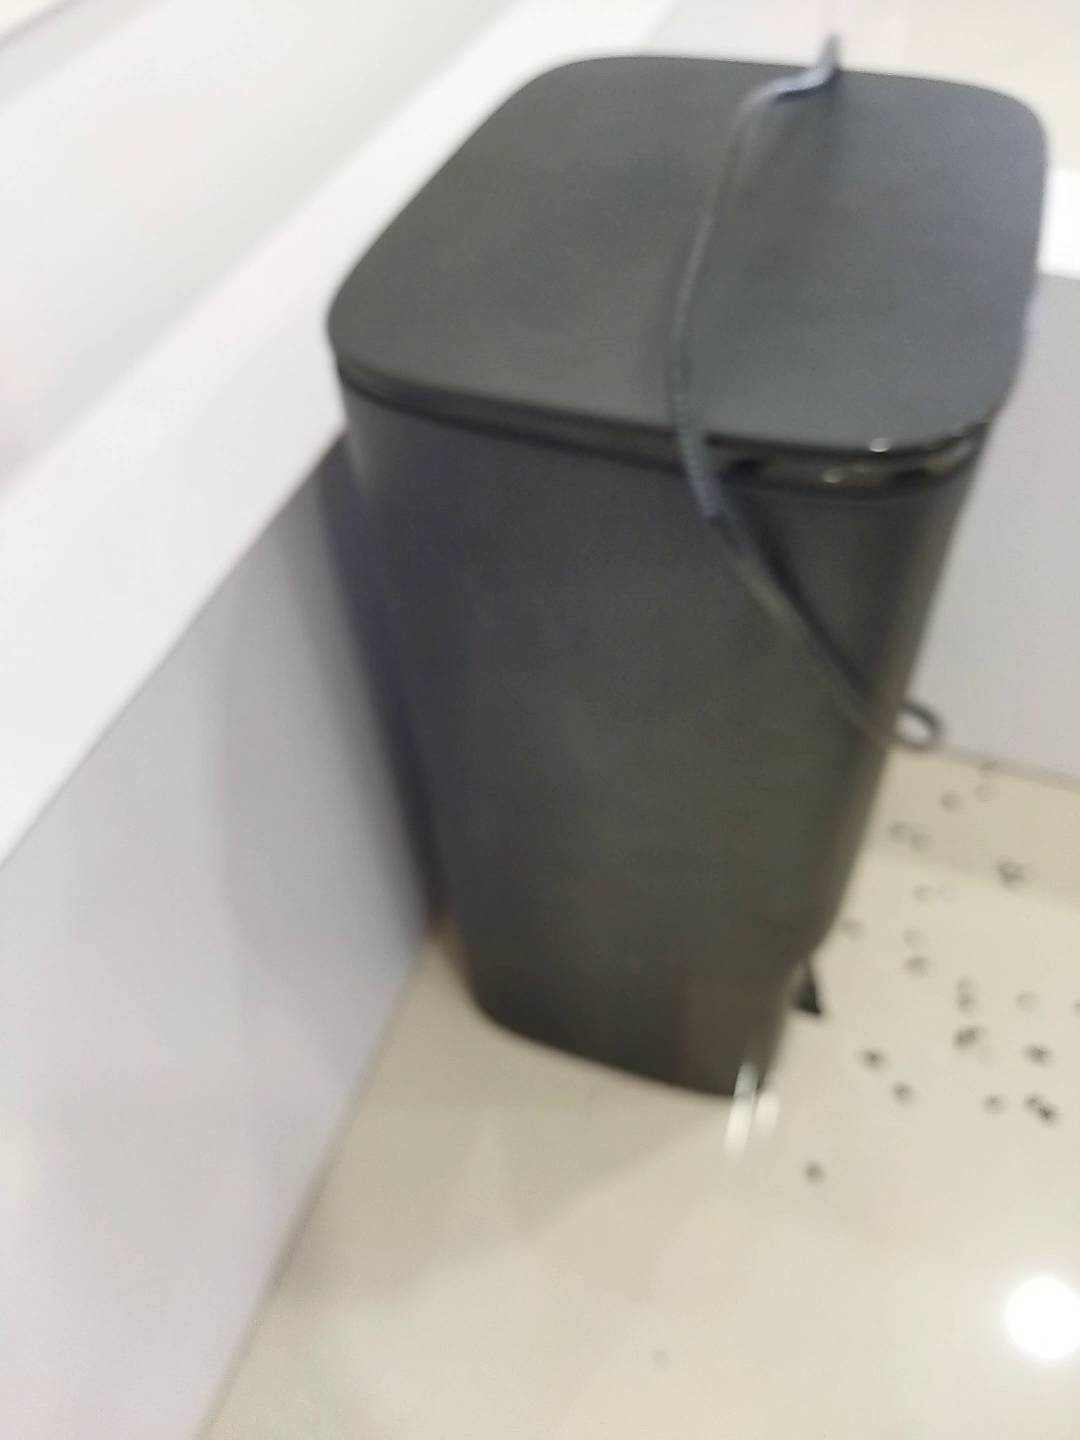dust collecting barrel: (328, 52, 1051, 1103)
